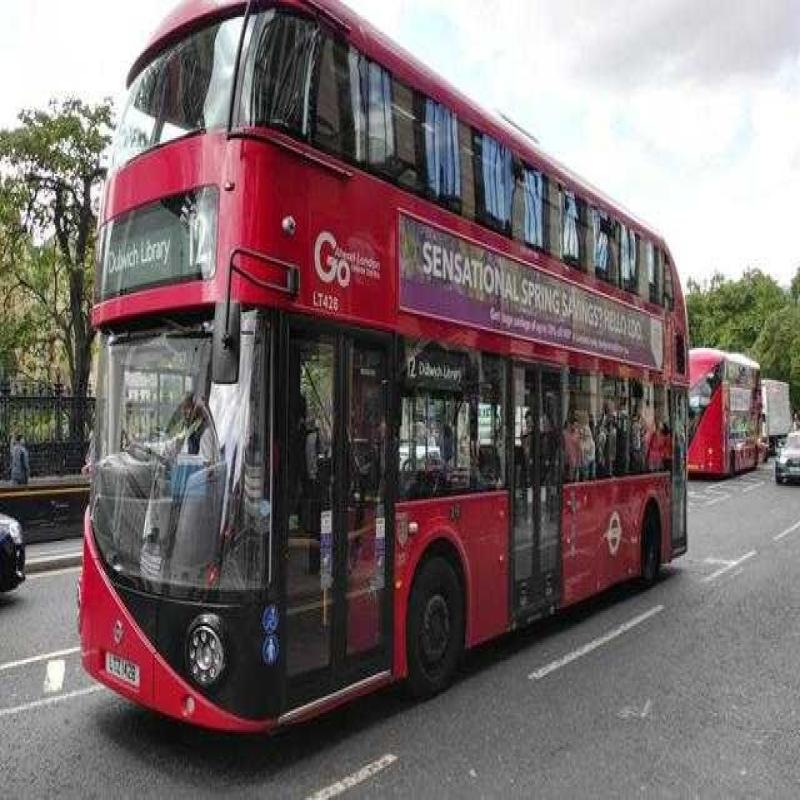bus: (39, 11, 750, 750)
